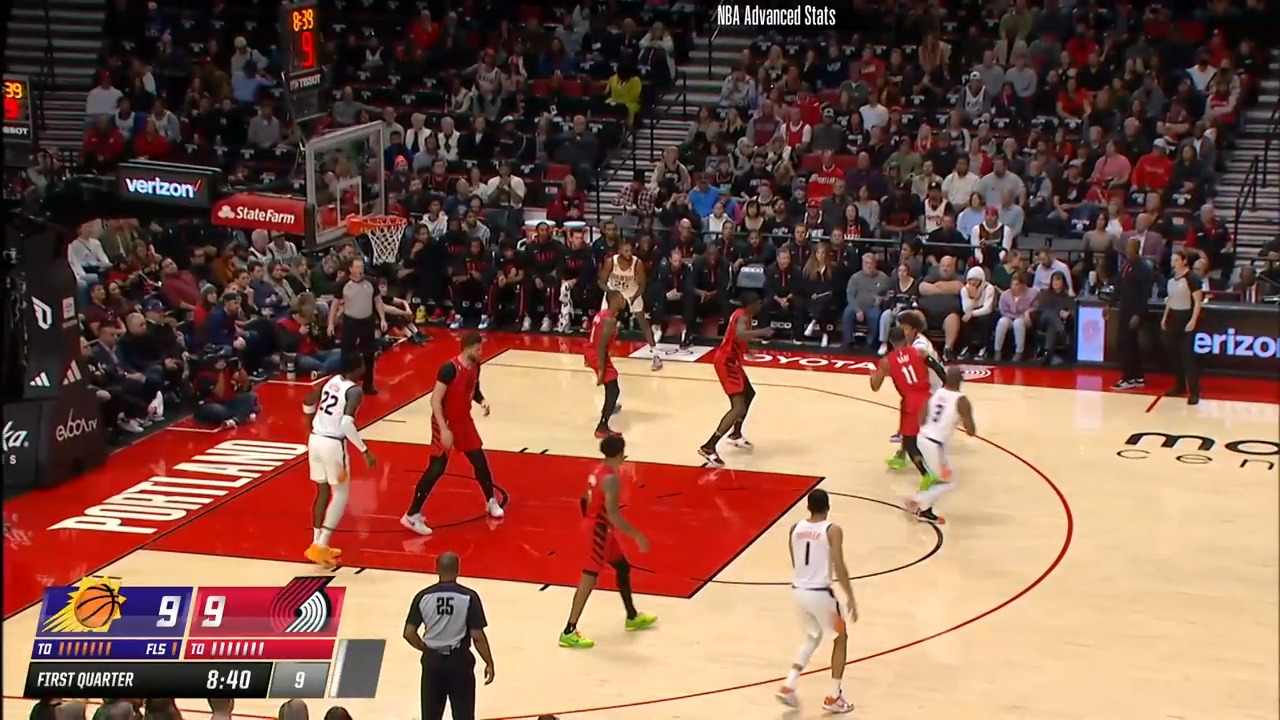net: (343, 208, 410, 269)
player: (402, 330, 507, 539), (781, 487, 871, 720), (559, 432, 654, 651), (297, 355, 376, 574), (906, 367, 987, 533), (699, 293, 771, 472), (872, 318, 944, 480), (597, 237, 662, 371), (581, 283, 630, 441)
referee: (401, 552, 498, 718), (1155, 254, 1206, 412), (331, 260, 387, 397)
